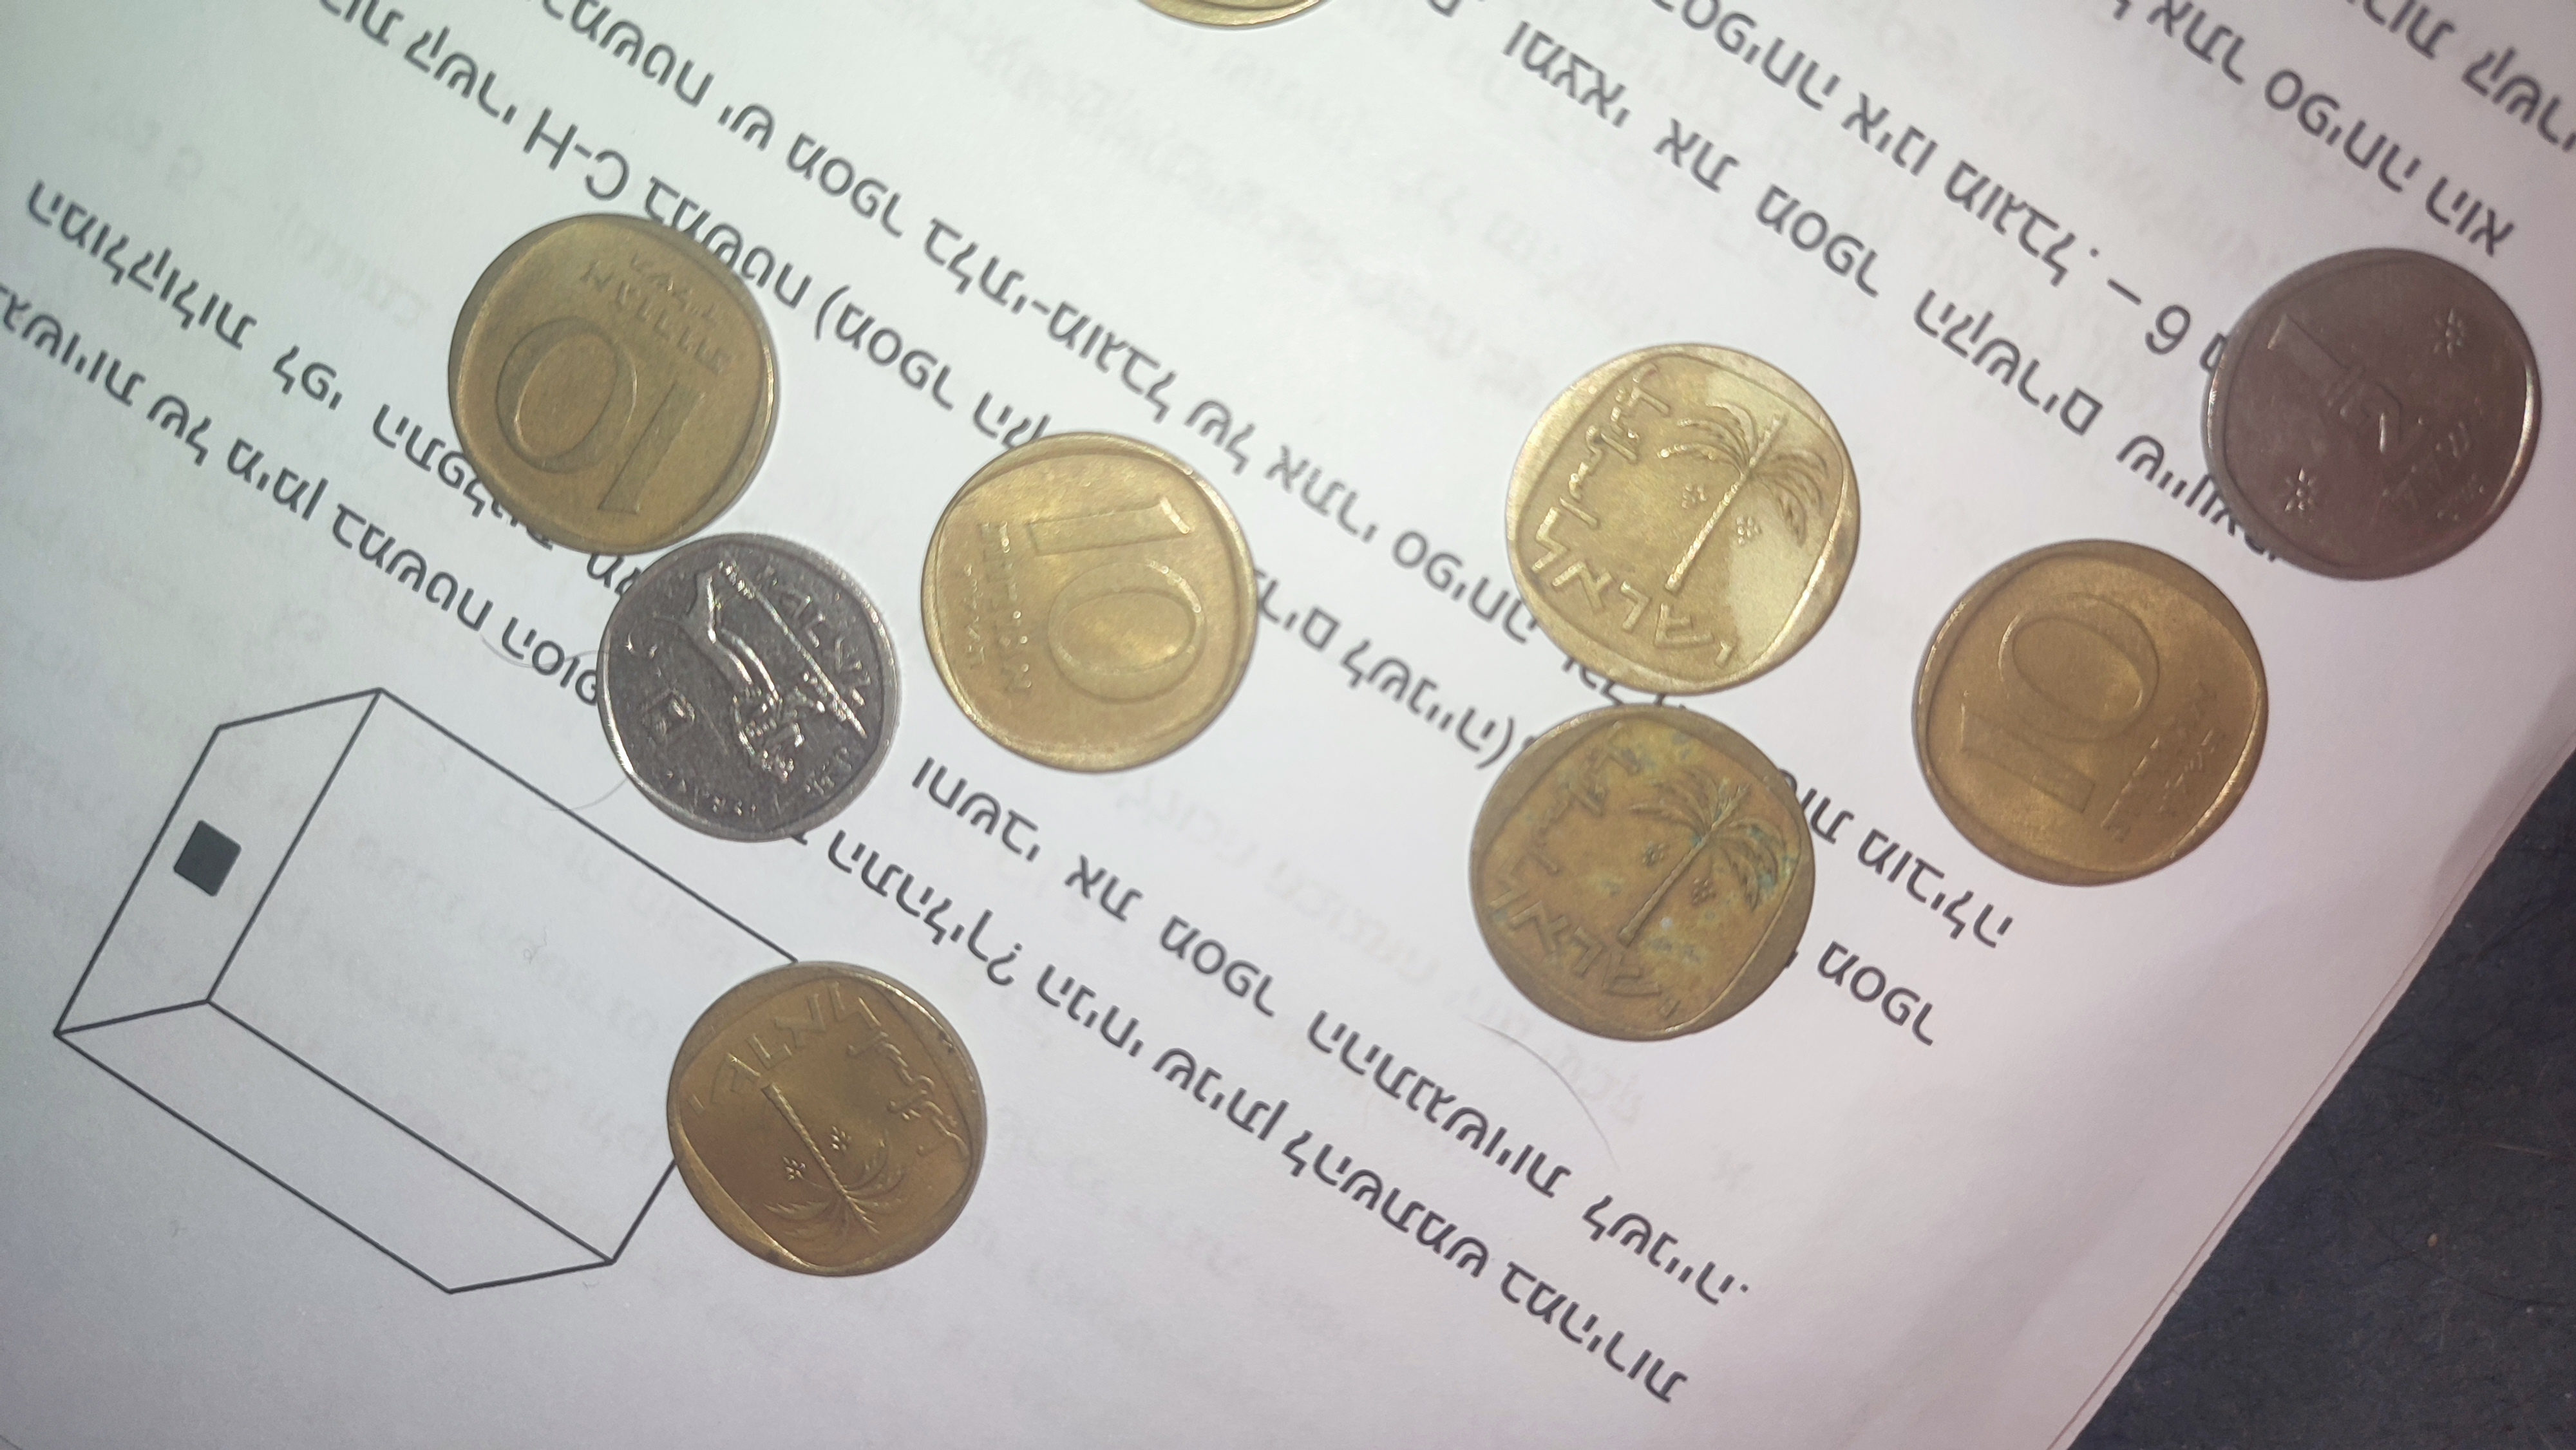1/2 old sheqel: (2197, 244, 2546, 587), (589, 529, 904, 847)
10 old agora brown: (1500, 340, 1867, 704), (1909, 536, 2273, 893), (1463, 697, 1819, 1043), (918, 428, 1265, 776), (444, 210, 784, 559), (662, 955, 994, 1282)
